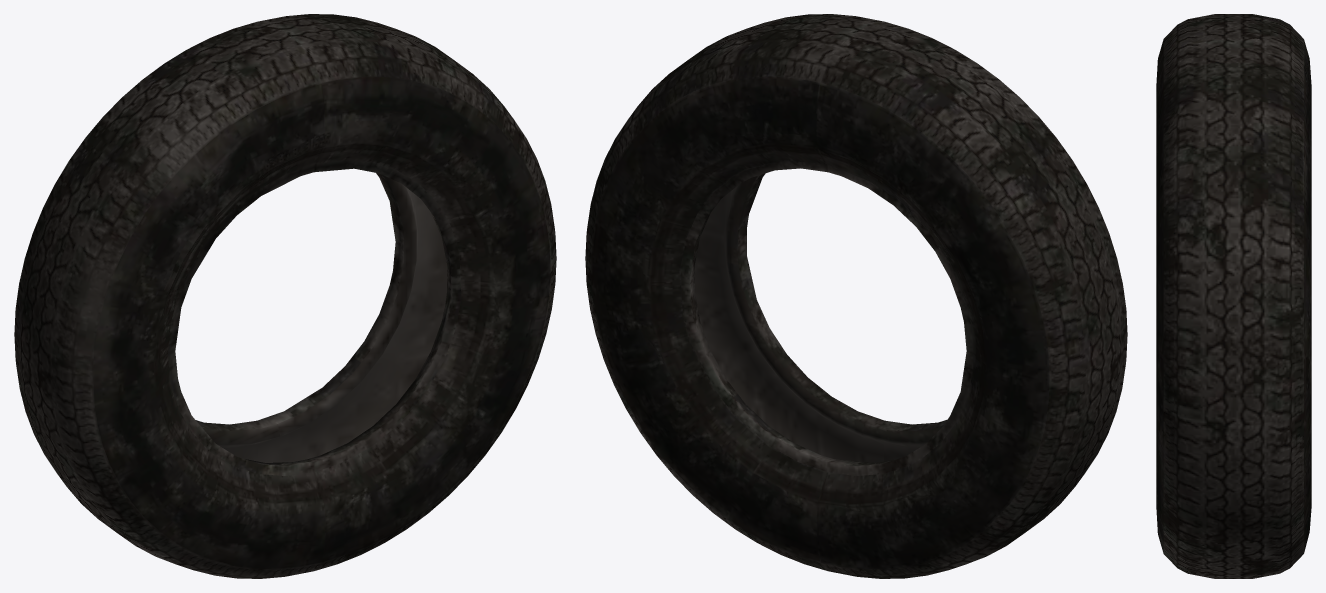
File: old_tyre.glb
The picture shows the model from 3 angles, left to right: view 1: azimuth 30°, elevation 25°; view 2: azimuth 150°, elevation 25°; view 3: azimuth 270°, elevation 25°; orthographic projection. The views are drawn at different scales.
Visible parts, largest first — view 1: old_tyre; view 2: old_tyre; view 3: old_tyre.
Boxes of the visible parts, box(x1,y1,x2,y2) form: old_tyre: box(14, 14, 556, 578); old_tyre: box(585, 14, 1127, 578); old_tyre: box(1156, 14, 1311, 578).
Bounding box in the file's own units: 0.6 × 0.6 × 0.165.
Materials: 1 (1 with a texture image).
